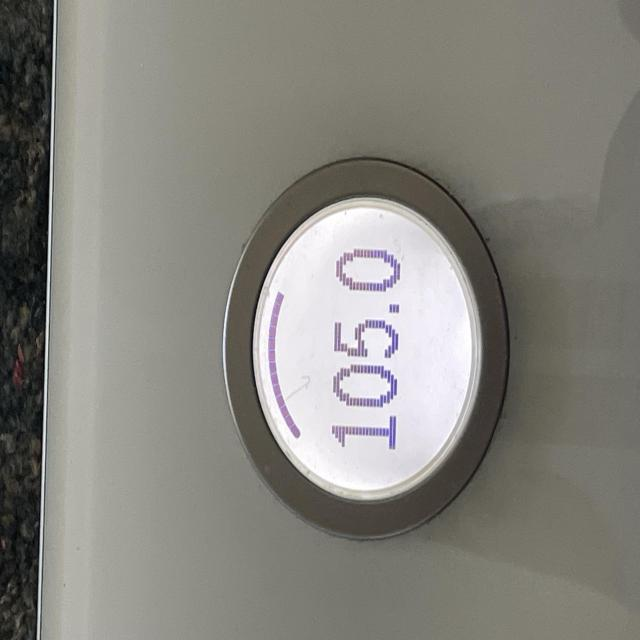ws: (225, 163, 510, 543)
